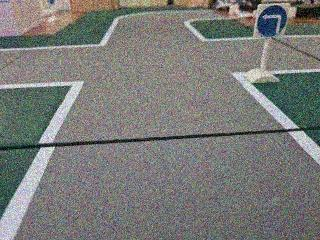left: (253, 1, 293, 41)
